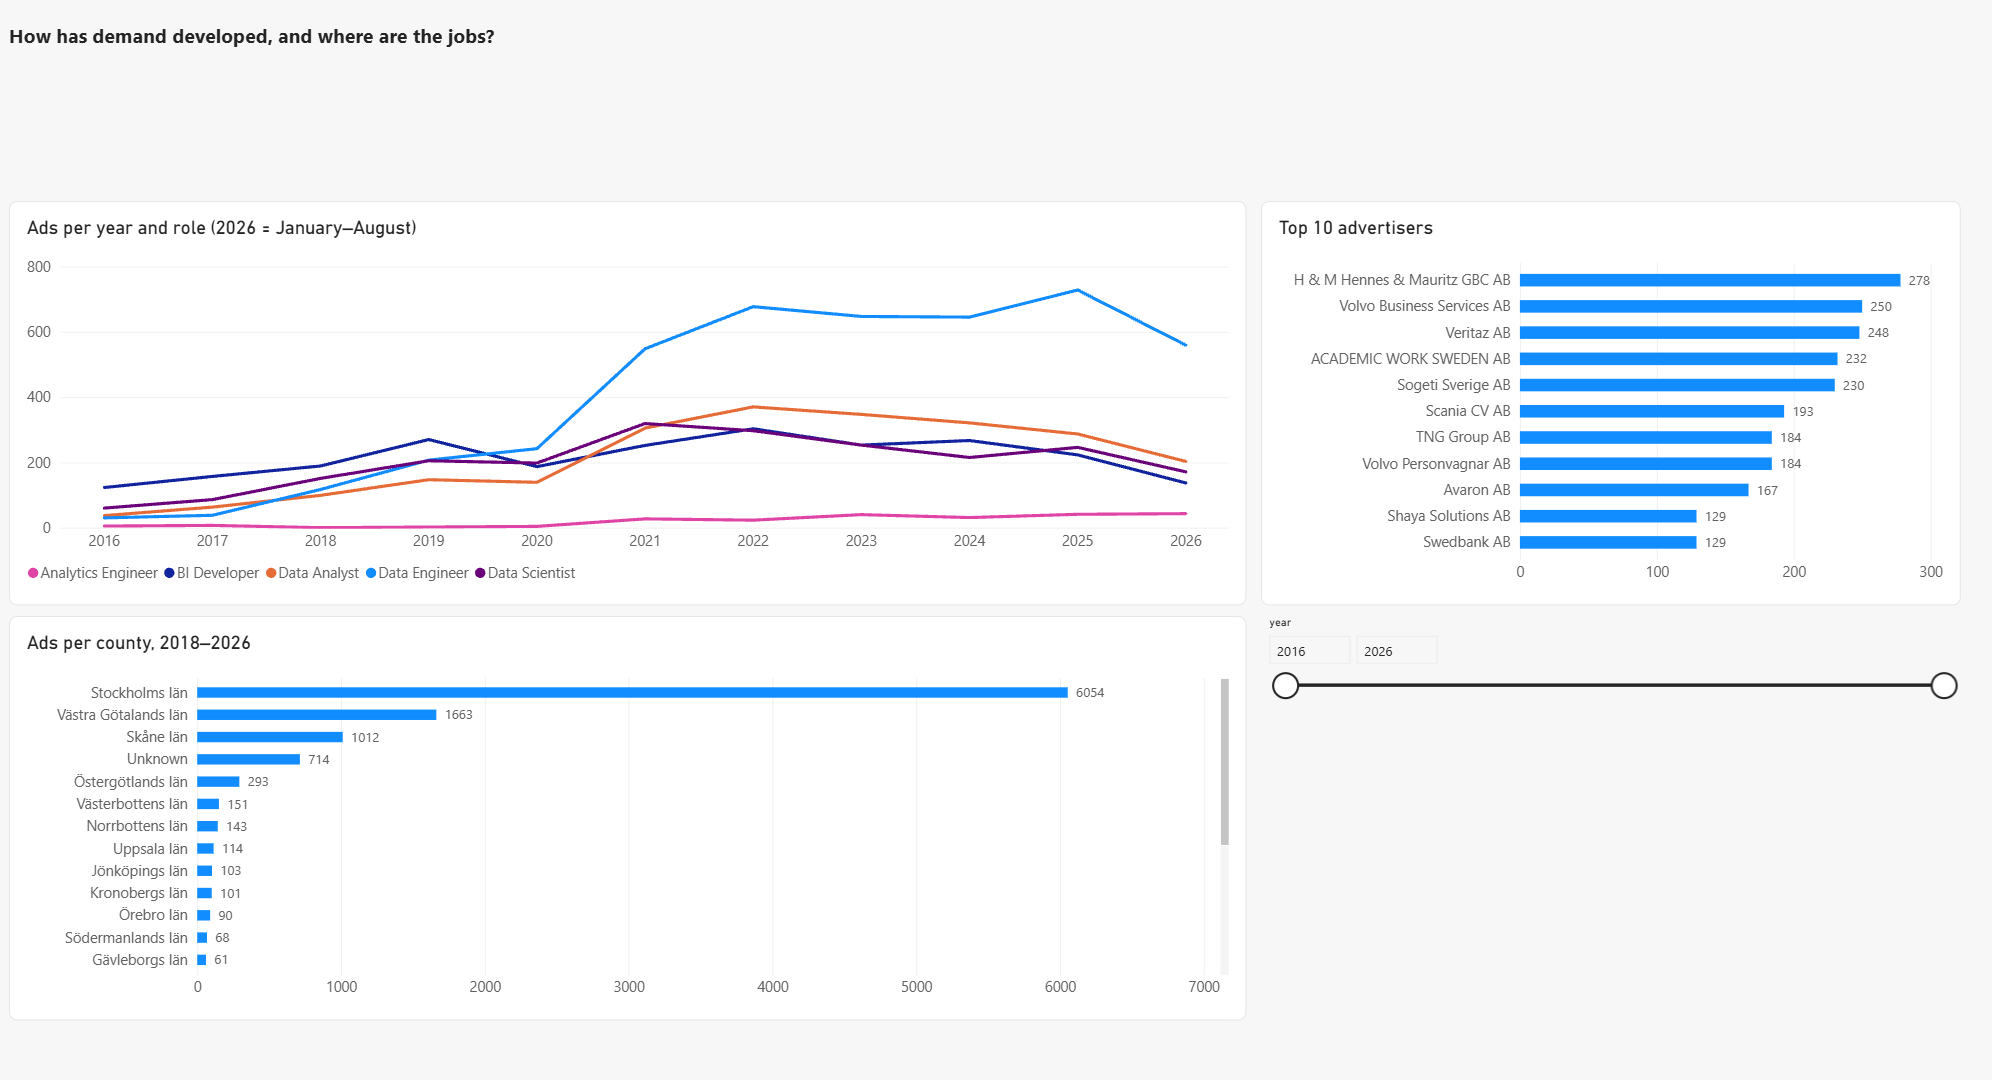

Layout of this report page (visuals, bound fields, positions):
{"tool":"powerbi","page":{"name":"Demand and geography","canvas":[1920,1080],"ordinal":2},"visuals":[{"type":"textbox","box":[10,26.9,731.6,63.7],"z":0},{"type":"lineChart","title":"Ads per year and role (2026 = January–August)","fields":{"Category":["dim_date.year"],"Series":["dim_role.role"],"Y":["_Measures.Ads (incl. zero)"]},"box":[10,199.1,1190.4,389.2],"z":1},{"type":"clusteredBarChart","title":"Ads per county, 2018–2026","fields":{"Category":["dim_location.region"],"Y":["_Measures.Ads"]},"box":[10,598.2,1190,389],"z":2},{"type":"slicer","fields":{"Values":["dim_date.year"]},"box":[1213.3,598.2,672.8,86.6],"z":3},{"type":"clusteredBarChart","title":"Top 10 advertisers","fields":{"Category":["dim_employer.employer_name"],"Y":["_Measures.Ads"]},"box":[1213.3,199.1,673,389],"z":4}]}

Visuals, with their boxes on the page's 1920x1080 design canvas (x1, y1, x2, y2). These are canvas units, not pixel positions in the 1992x1080 screenshot, which may show the page scaled, cropped or inside an application window:
textbox: bbox=[10, 27, 742, 91]
"Ads per year and role (2026 = January–August)" lineChart: bbox=[10, 199, 1200, 588]
"Ads per county, 2018–2026" clusteredBarChart: bbox=[10, 598, 1200, 987]
slicer - dim_date.year: bbox=[1213, 598, 1886, 685]
"Top 10 advertisers" clusteredBarChart: bbox=[1213, 199, 1886, 588]
